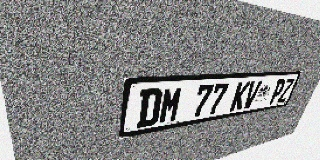7: (190, 84, 214, 119), (206, 83, 229, 116)
D: (136, 88, 163, 128)
K: (229, 81, 251, 112)
M: (158, 86, 184, 124)
P: (268, 79, 287, 105)
V: (241, 81, 262, 109)
Z: (277, 78, 295, 103)
